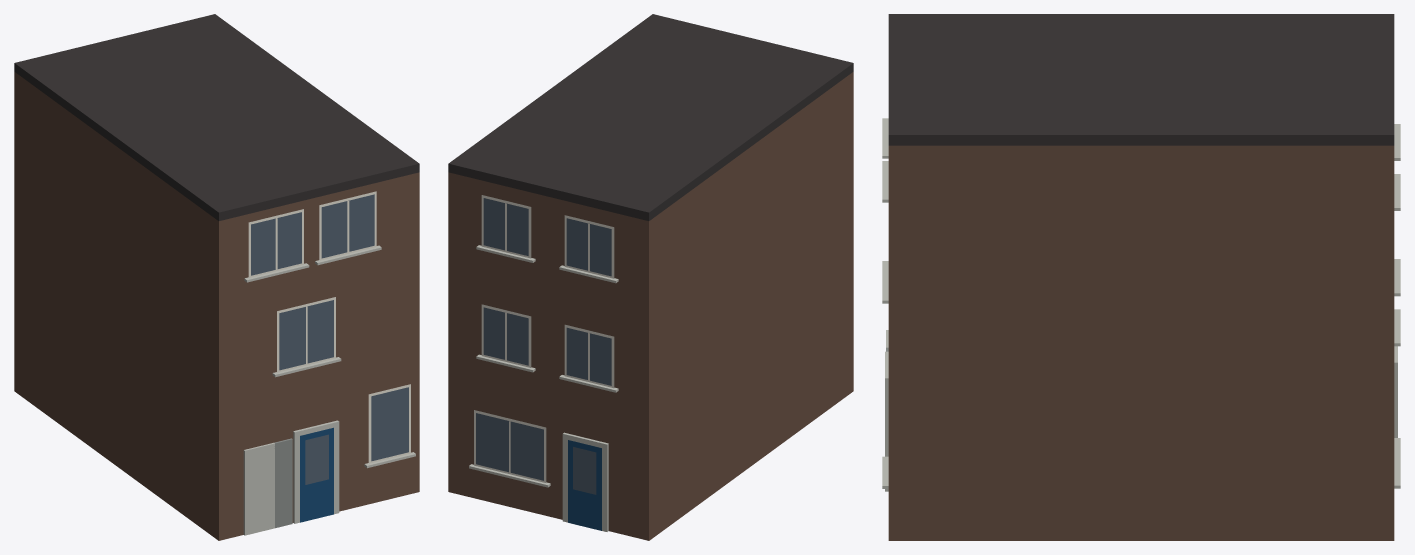
The model's file is nw-rowhouse-garage-door-3st__blue-door__3__flat__long__solid.glb.
3 views of the same model, side by side, from view 1: azimuth 30°, elevation 25°; view 2: azimuth 150°, elevation 25°; view 3: azimuth 270°, elevation 25° (orthographic). The views are drawn at different scales.
Parts seen in each view (by area): view 1: nw-rowhouse-garage-door-3st__blue-door__3__flat__long__solid; view 2: nw-rowhouse-garage-door-3st__blue-door__3__flat__long__solid; view 3: nw-rowhouse-garage-door-3st__blue-door__3__flat__long__solid.
Part boxes in pixels (left/top/right/bottom): nw-rowhouse-garage-door-3st__blue-door__3__flat__long__solid: left=14, top=14, right=419, bottom=540; nw-rowhouse-garage-door-3st__blue-door__3__flat__long__solid: left=448, top=14, right=853, bottom=540; nw-rowhouse-garage-door-3st__blue-door__3__flat__long__solid: left=882, top=14, right=1400, bottom=540.
Size of the model in its own units: 5.32 by 8.32 by 9.63.
